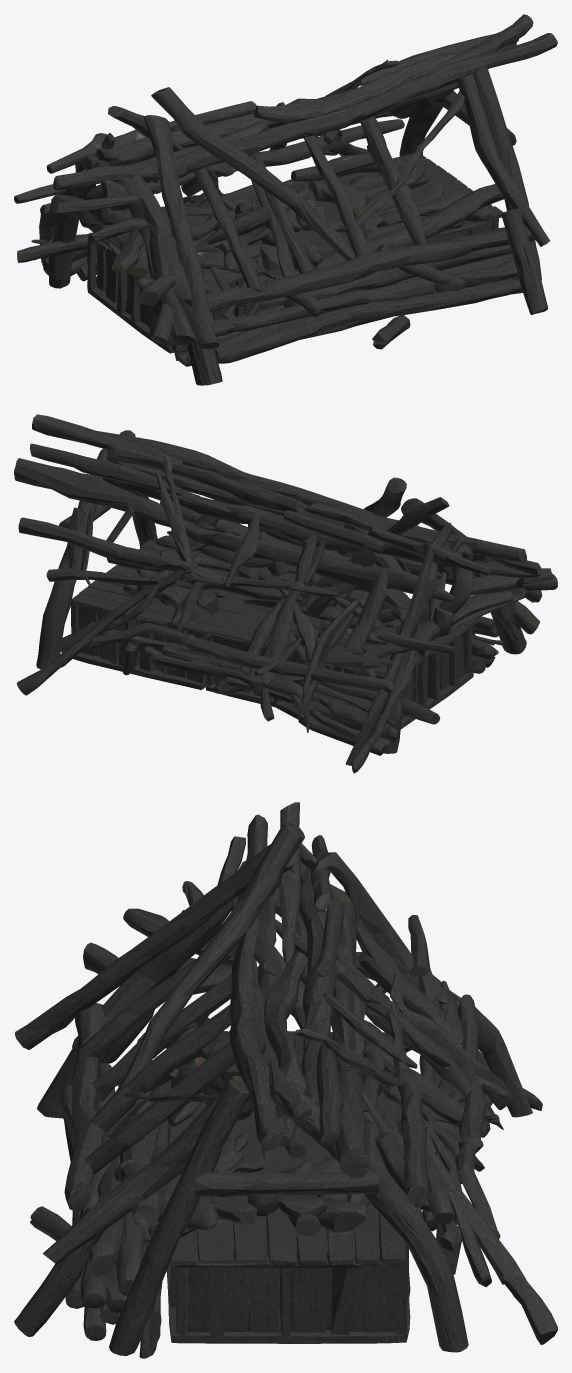
The model's file is burned_beams.glb.
3 views of the same model, one above another, from view 1: azimuth 30°, elevation 25°; view 2: azimuth 150°, elevation 25°; view 3: azimuth 270°, elevation 25° (orthographic). The views are drawn at different scales.
Size of the model in its own units: 1.89 by 0.7992 by 1.23.
1 material, 1 textured.
